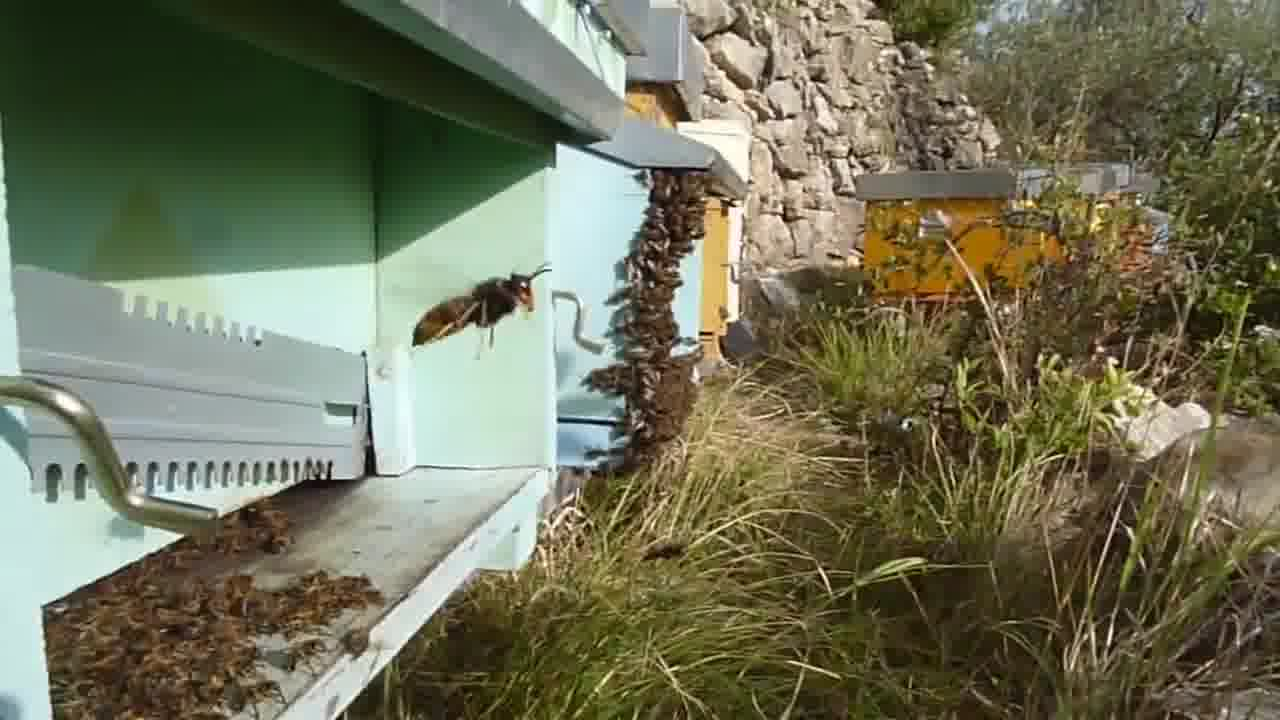bee: (50, 598, 279, 720), (598, 329, 697, 400), (631, 165, 715, 242), (287, 558, 387, 618), (621, 238, 687, 322), (211, 496, 294, 562)
hornet: (403, 264, 545, 349)
